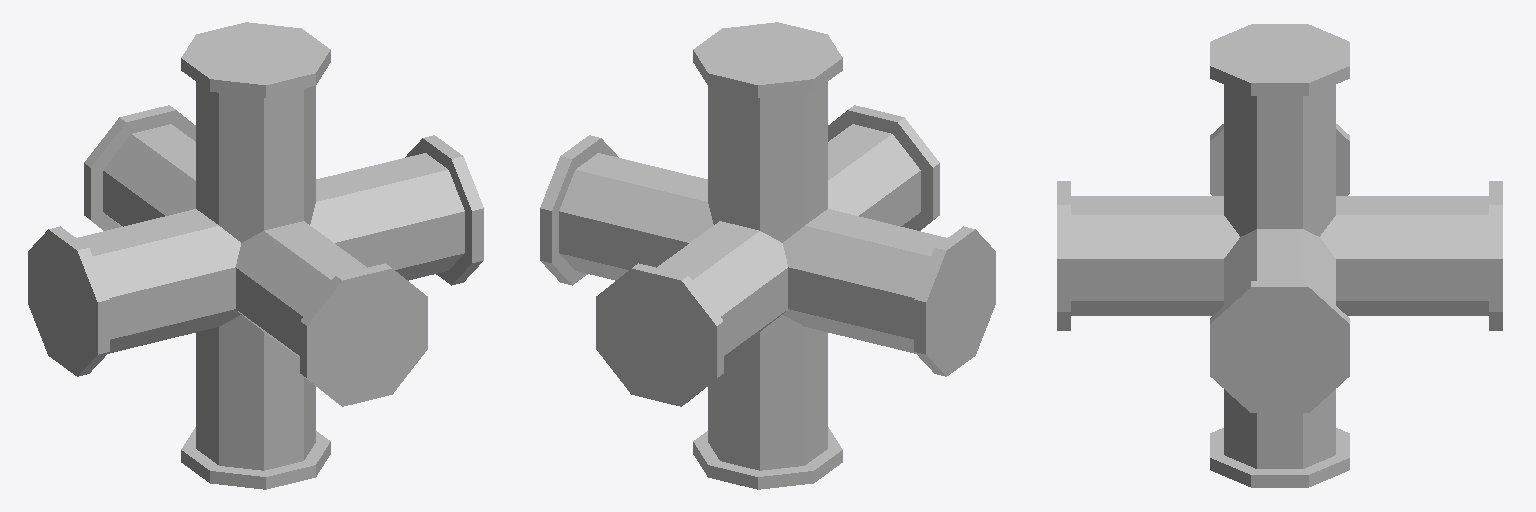
Rendered from pipeworks_pipe_10_lowpoly.obj.
3 renders of one model, left to right at view 1: azimuth 30°, elevation 25°; view 2: azimuth 150°, elevation 25°; view 3: azimuth 270°, elevation 25°, orthographic.
Visible parts, largest first — view 1: Cylinder.002_Cylinder.006_None.005; view 2: Cylinder.002_Cylinder.006_None.005; view 3: Cylinder.002_Cylinder.006_None.005.
Part boxes in pixels (x1,y1,x2,y2): Cylinder.002_Cylinder.006_None.005: (28, 22, 483, 489); Cylinder.002_Cylinder.006_None.005: (540, 22, 995, 489); Cylinder.002_Cylinder.006_None.005: (1057, 24, 1502, 487).
Bounding box in the file's own units: 1 × 1 × 1.